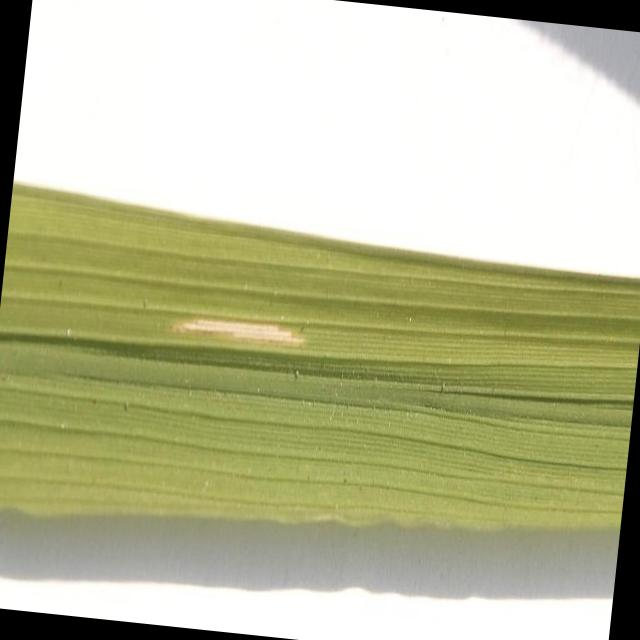Rice_Bacterial_Blight: (112, 252, 401, 439)
